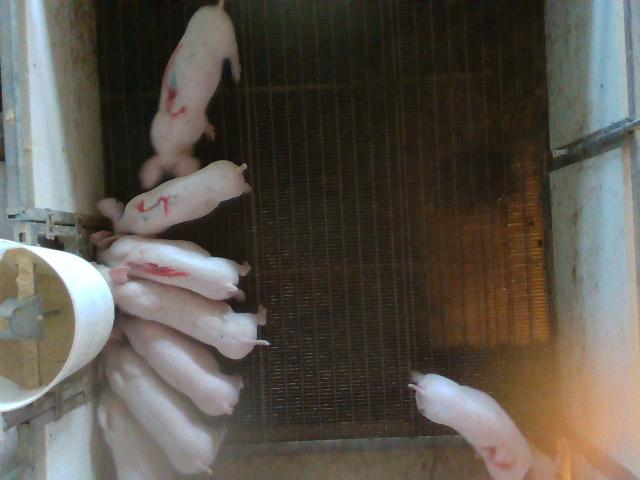pig-1: (92, 231, 250, 299)
pig-2: (409, 371, 556, 479)
pig-3: (140, 0, 240, 188)
pig-5: (90, 160, 250, 248)
